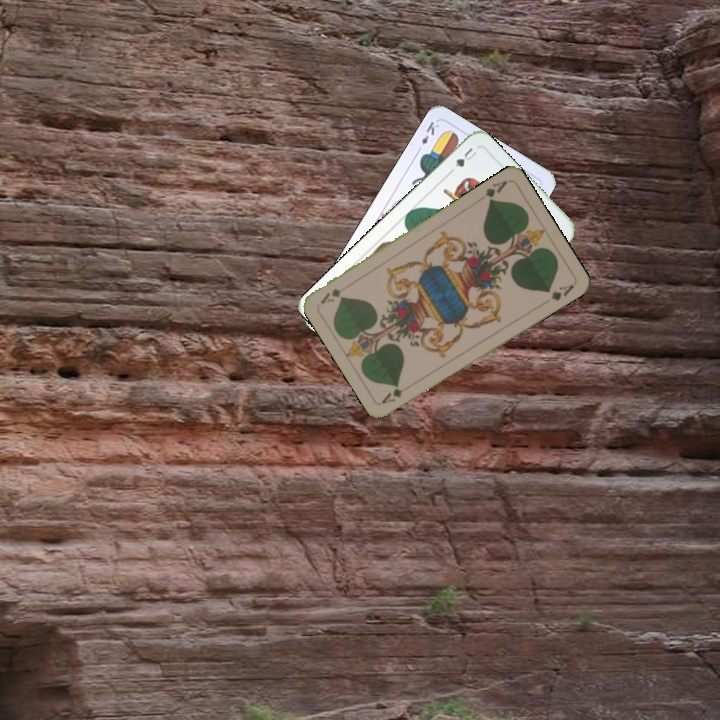EK: (413, 117, 442, 155)
GA: (378, 380, 415, 407), (481, 176, 510, 205)
GU: (451, 143, 480, 170)
